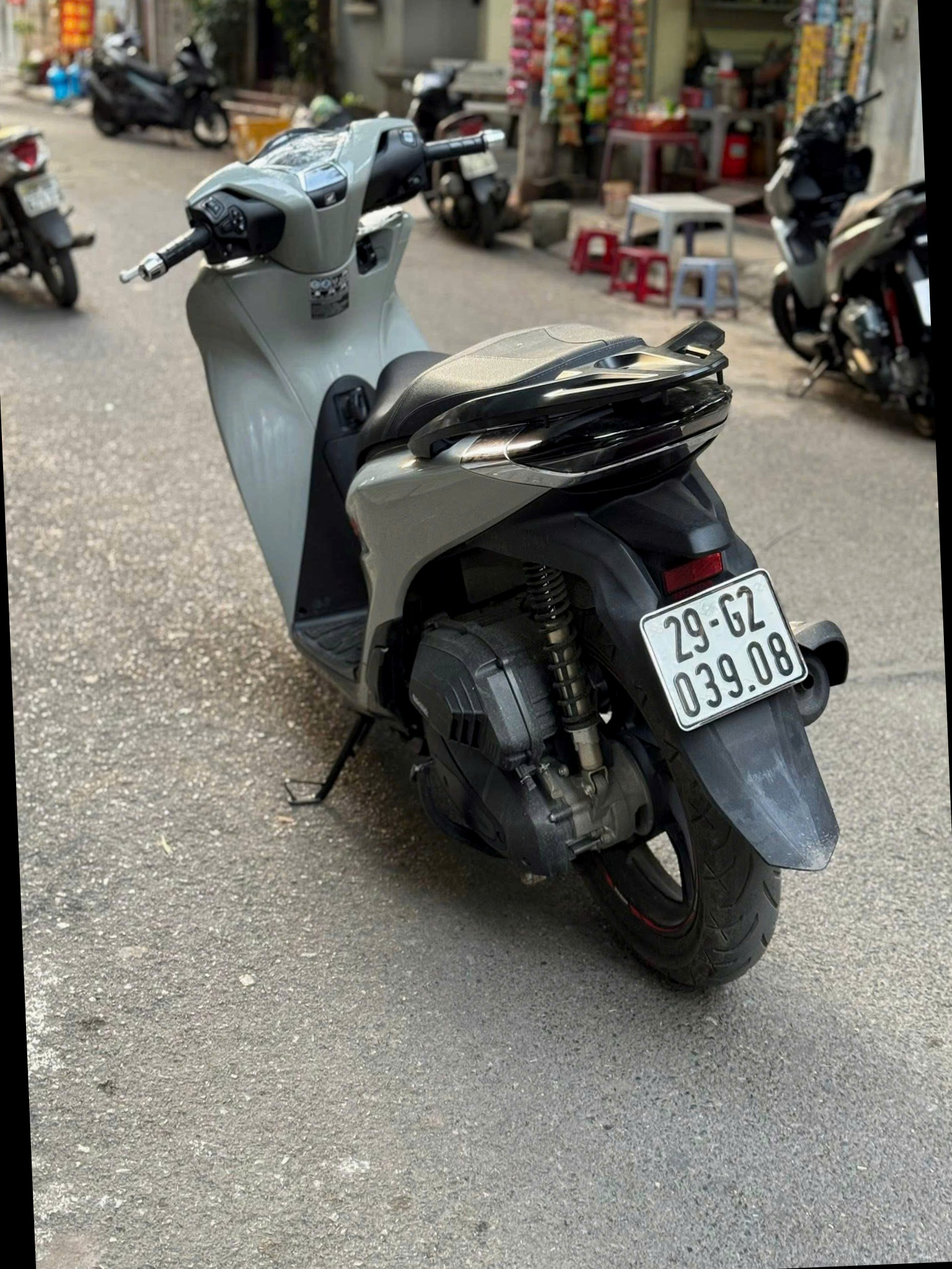Bien-so: (638, 602, 818, 760)
